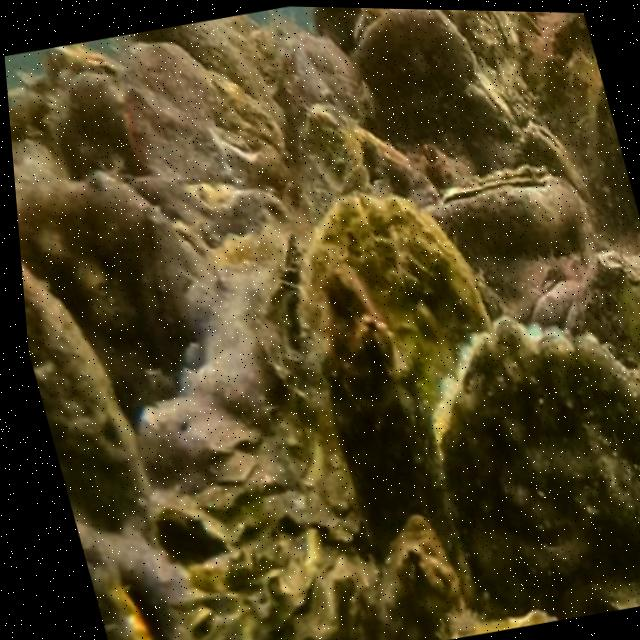Oyster-Closed: (442, 165, 580, 263), (523, 119, 590, 194)
Oyster-Indeterminate: (438, 314, 640, 618), (13, 157, 229, 428), (327, 268, 482, 608), (298, 191, 493, 435), (21, 260, 160, 536), (351, 9, 519, 150), (123, 44, 229, 188), (371, 520, 470, 640), (90, 573, 164, 640)
Oyster-Open: (191, 526, 339, 640)
